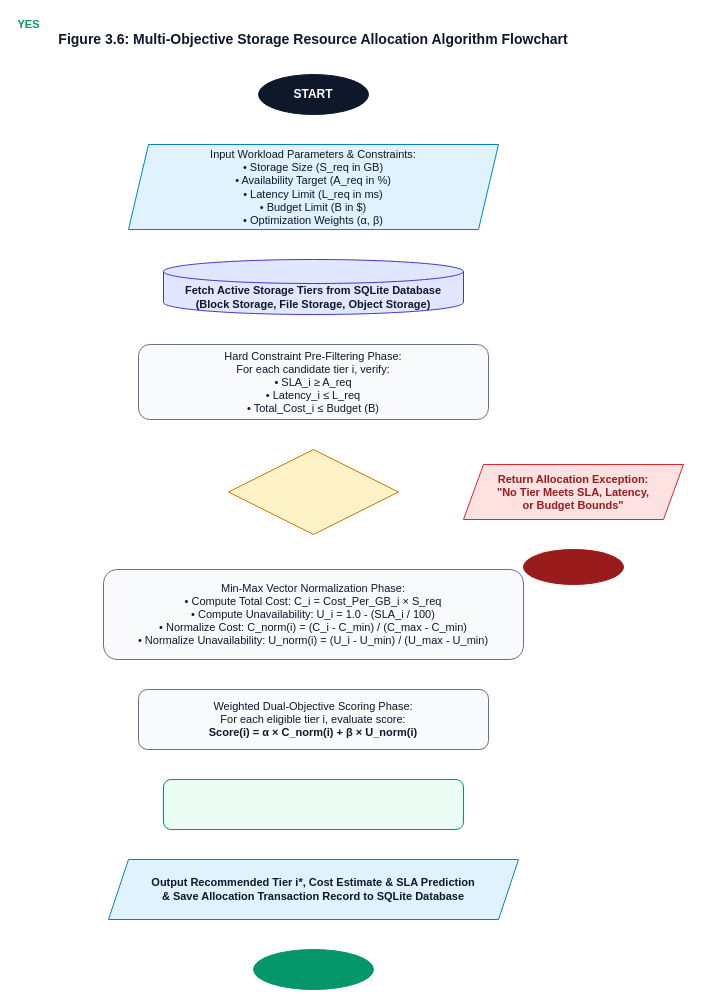
Some shapes in this 701 by 1008 pixel diagram are drawn without their labels. The centre of each missing label's shape, as x and y in pixels:
"Any Eligible Tiers Pass Constraints?" goes at (x=313, y=491).
"END (FAIL)" goes at (x=573, y=566).
"END (SUCCESS)" goes at (x=313, y=969).
"Optimal Storage Tier Selection Phase: Select Tier i* = argmin(Score(i))" goes at (x=313, y=804).
